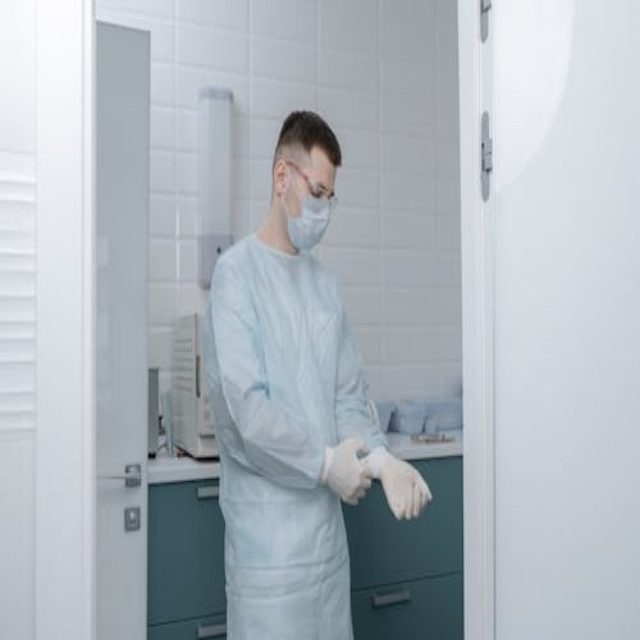Gafas: (283, 159, 338, 208)
Guantes: (369, 434, 440, 529), (322, 436, 375, 505)
Mascara: (282, 169, 334, 252)
